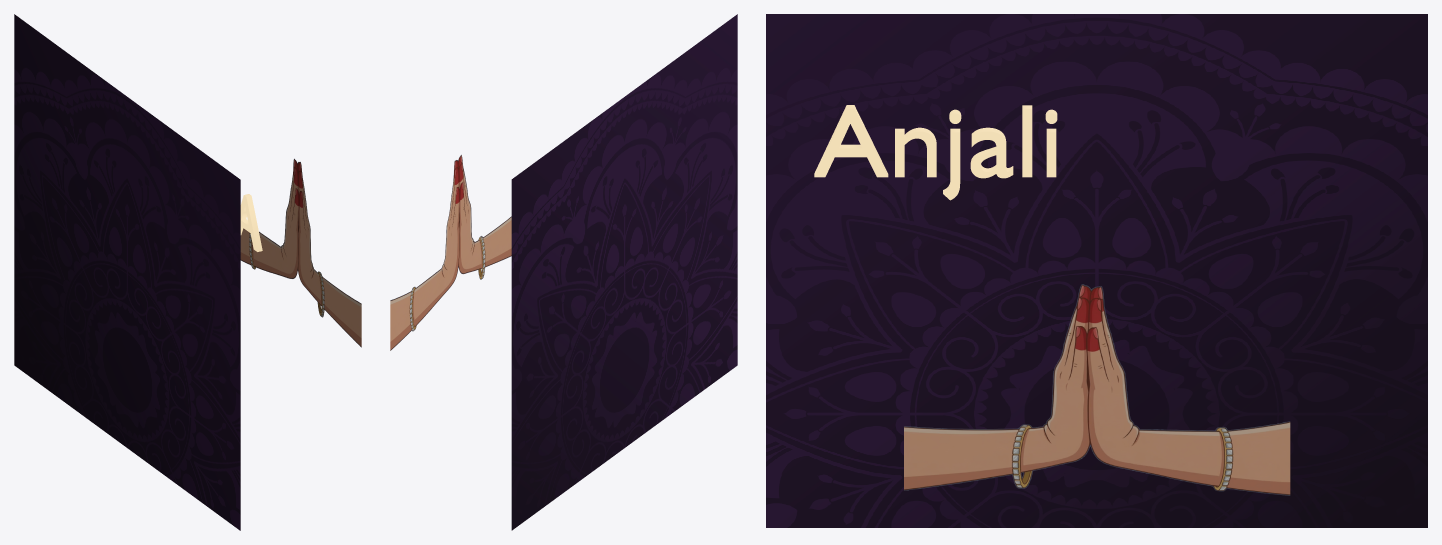
File: anjali.glb
3 views of the same model, side by side, from view 1: azimuth 30°, elevation 25°; view 2: azimuth 150°, elevation 25°; view 3: azimuth 270°, elevation 25° (orthographic). The views are drawn at different scales.
Parts seen in each view (by area): view 1: Plane, Anjali, Text.027; view 2: Plane, Anjali; view 3: Plane, Anjali, Text.027.
Part boxes in pixels (<box>): Plane: <box>14,14,240,530</box>; Anjali: <box>240,158,361,347</box>; Text.027: <box>240,194,262,251</box>; Plane: <box>511,14,737,530</box>; Anjali: <box>390,154,511,350</box>; Plane: <box>766,14,1427,527</box>; Anjali: <box>904,284,1290,495</box>; Text.027: <box>814,105,1057,200</box>.
Bounding box in the file's own units: 1.53 × 3.05 × 3.56.
Materials: 3 (2 with a texture image).
